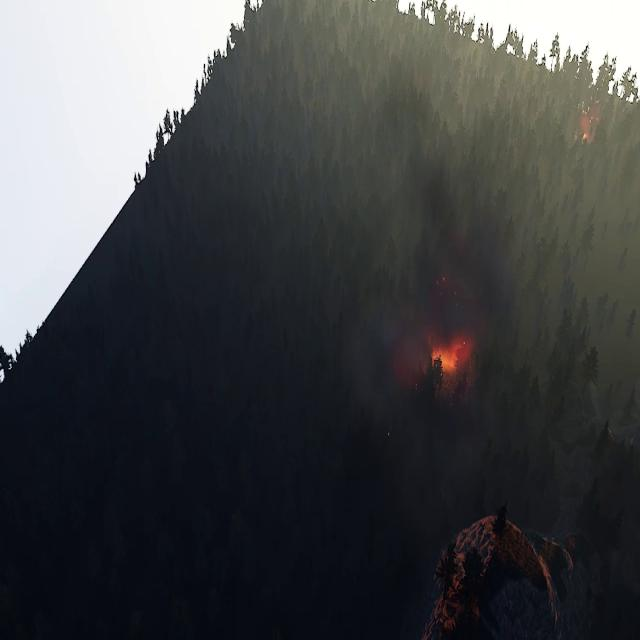fire: (427, 331, 473, 377), (579, 100, 601, 144)
smoke: (340, 217, 515, 536)
